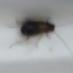cockroach: (20, 19, 56, 38)
